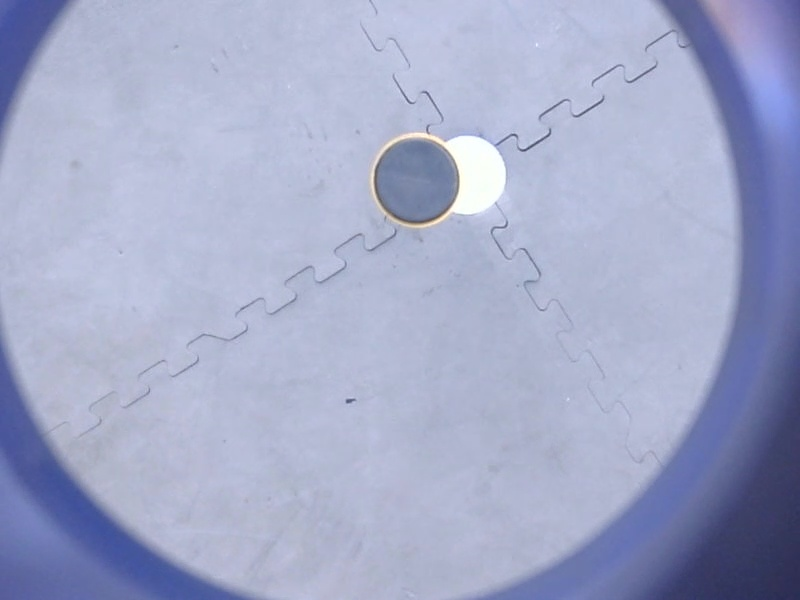tip: (366, 128, 466, 232)
